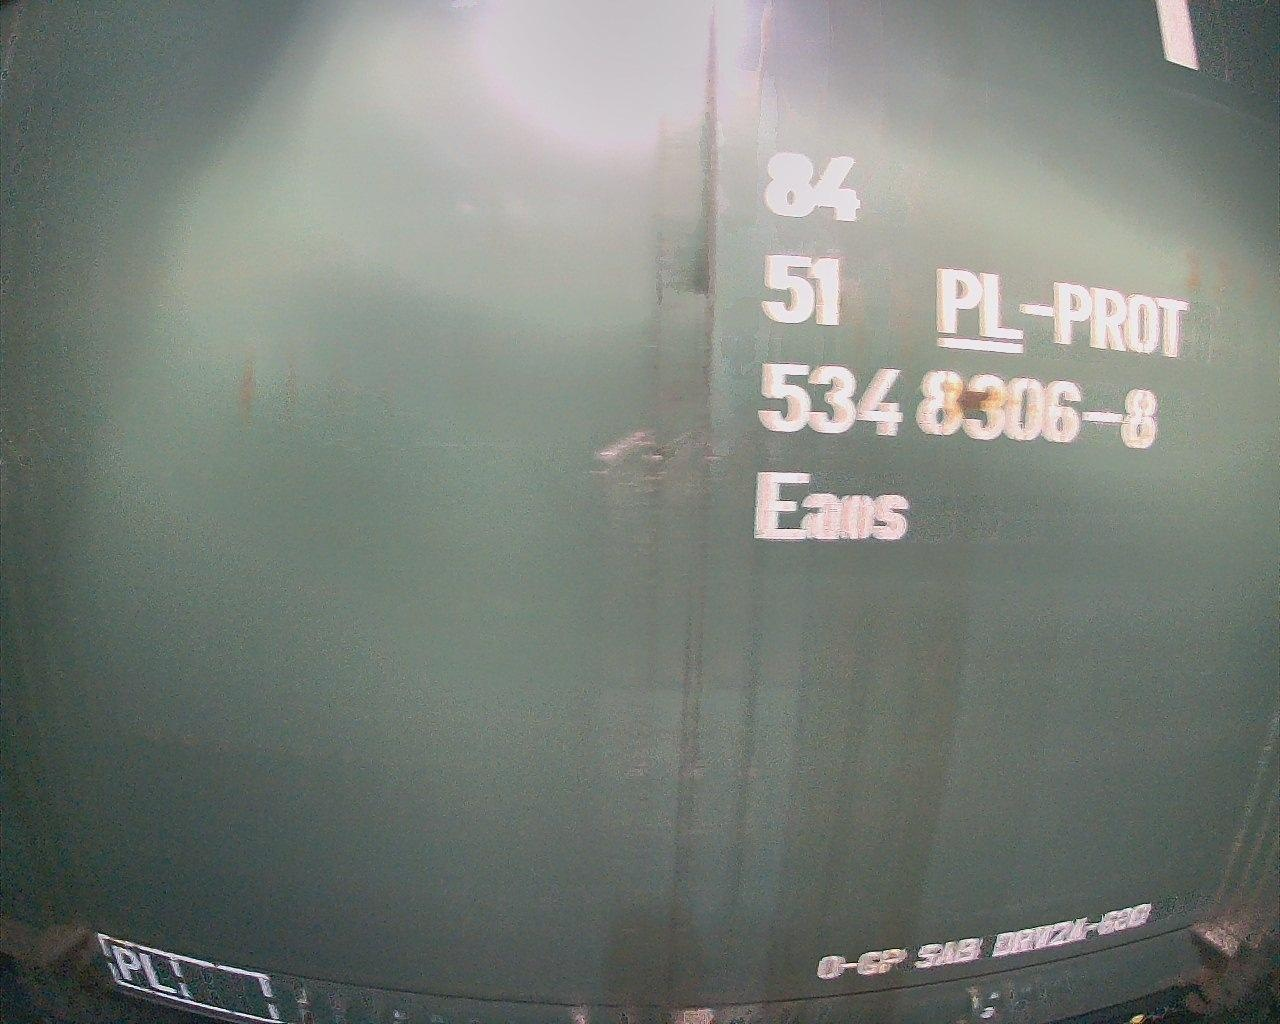UIC: (751, 147, 1196, 567)
